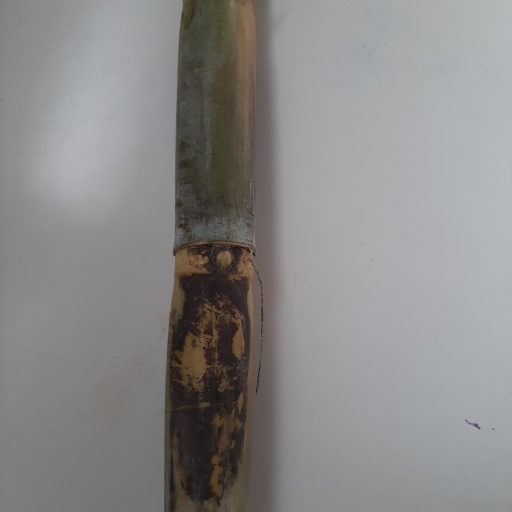Bud: (211, 247, 236, 278)
